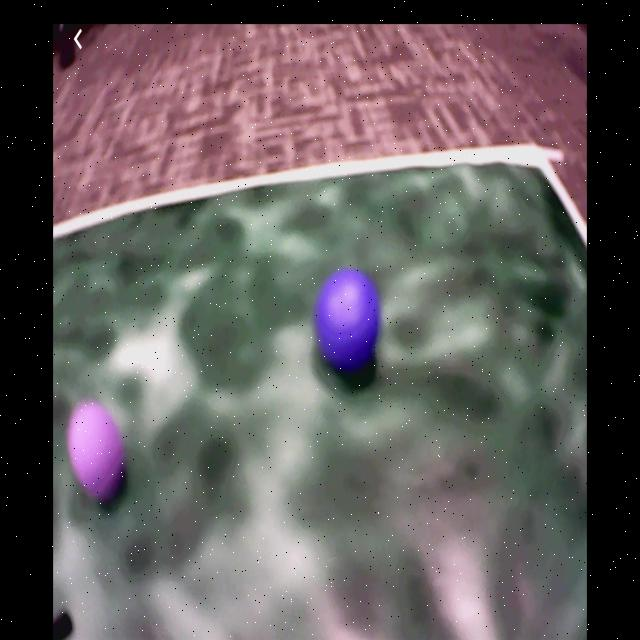ball: (317, 271, 380, 370), (69, 402, 125, 495)
